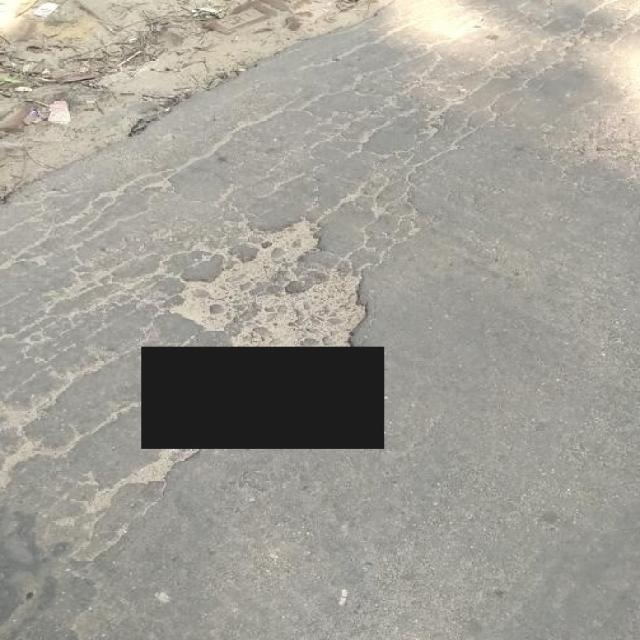road-pothole: (163, 216, 364, 348)
